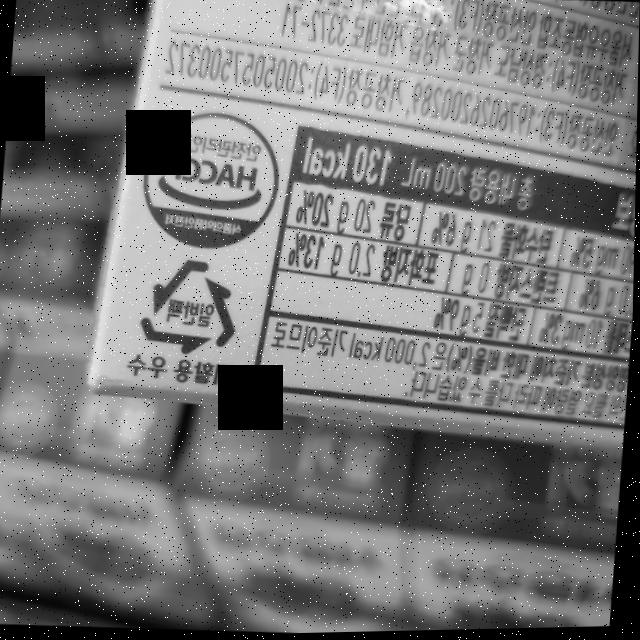NormalPack: (138, 254, 243, 360)
